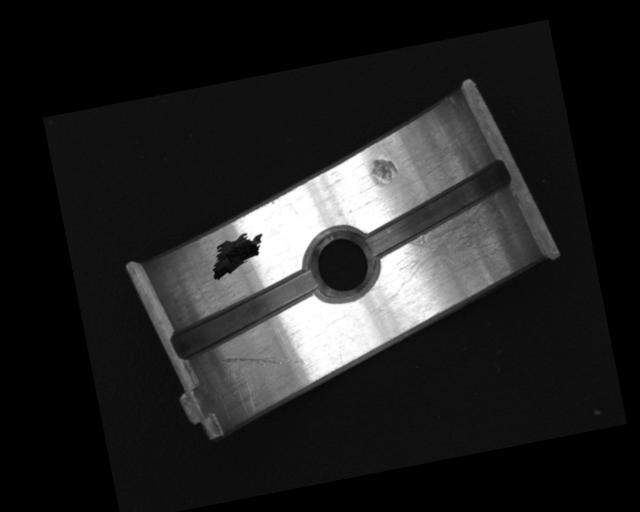blot: (205, 228, 271, 282)
bruise: (366, 155, 401, 190)
gap: (356, 160, 520, 260), (165, 267, 328, 361)
hole: (301, 225, 382, 305)
nick: (219, 341, 305, 381)
scratch: (374, 195, 533, 302)
